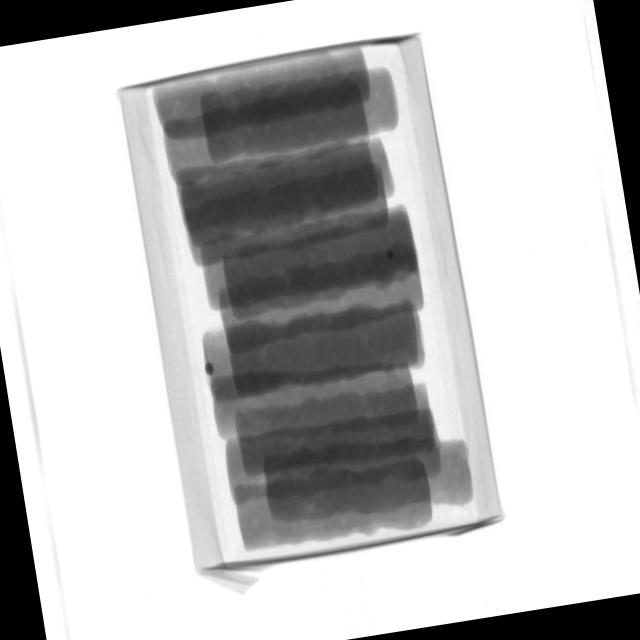ym: (207, 362, 217, 375), (387, 251, 396, 261)
